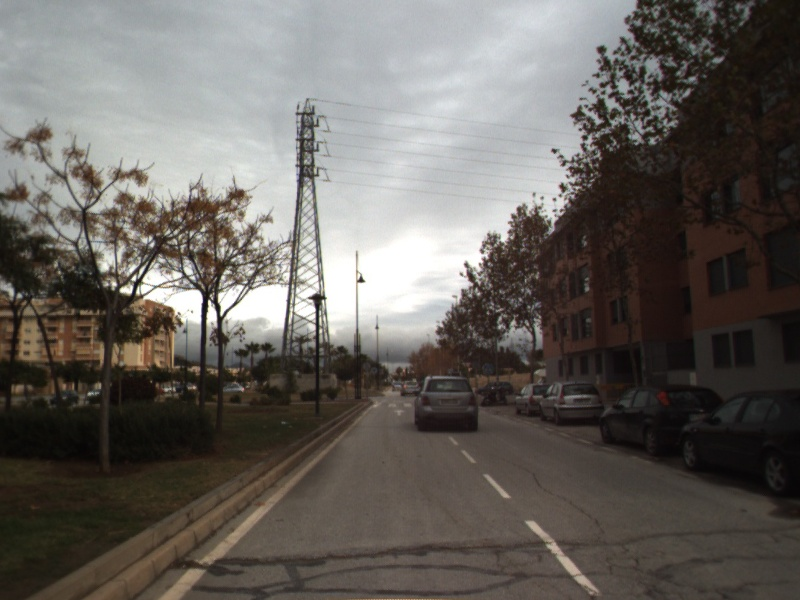STRAIGHT: (392, 407, 407, 418)
